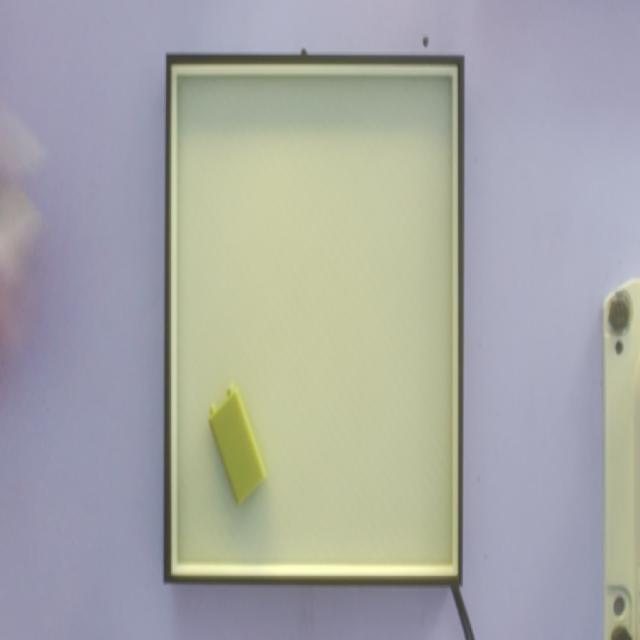bateria: (208, 385, 268, 509)
mesa: (163, 53, 465, 587)
